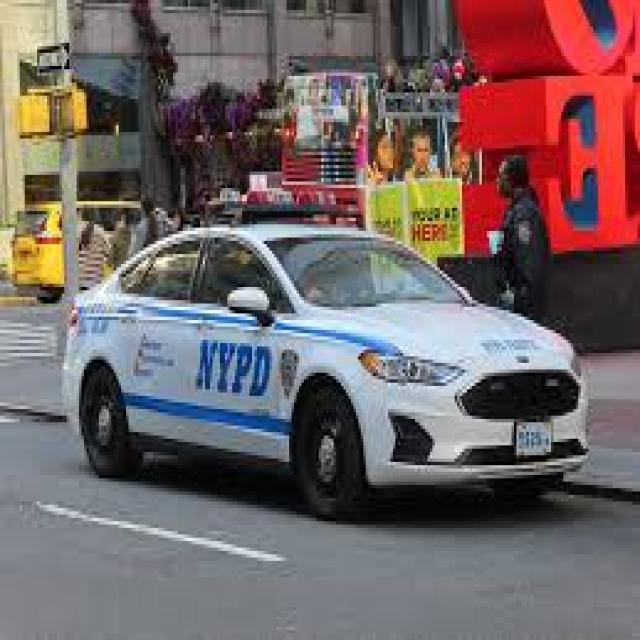cop: (58, 184, 593, 536)
